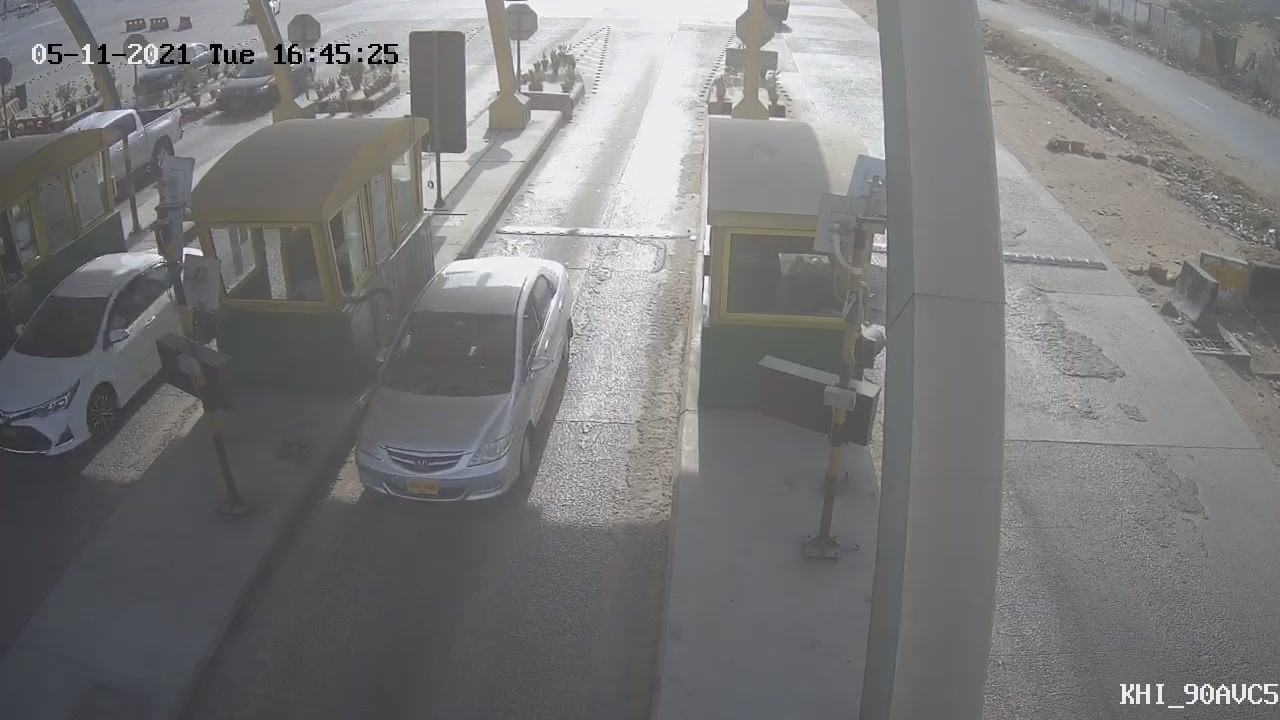F1: (330, 233, 595, 524)
